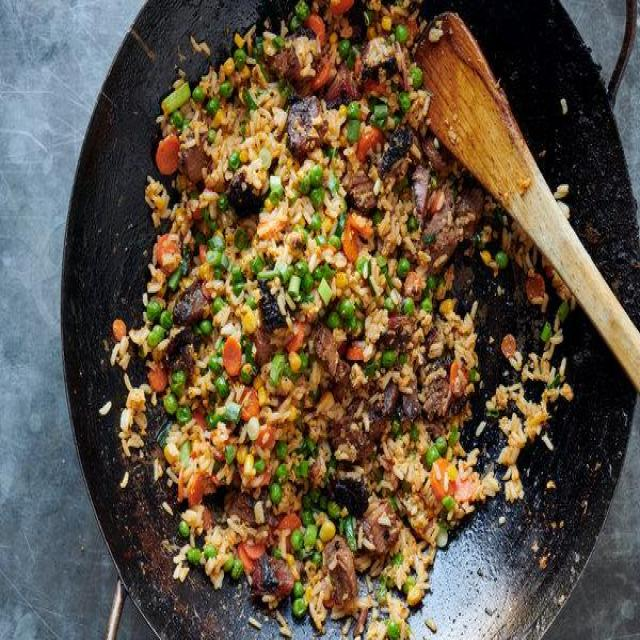Nasi Goreng: (106, 0, 577, 635)
